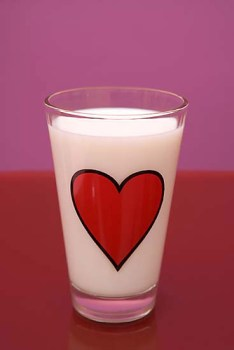glass of milk: (46, 84, 182, 329)
